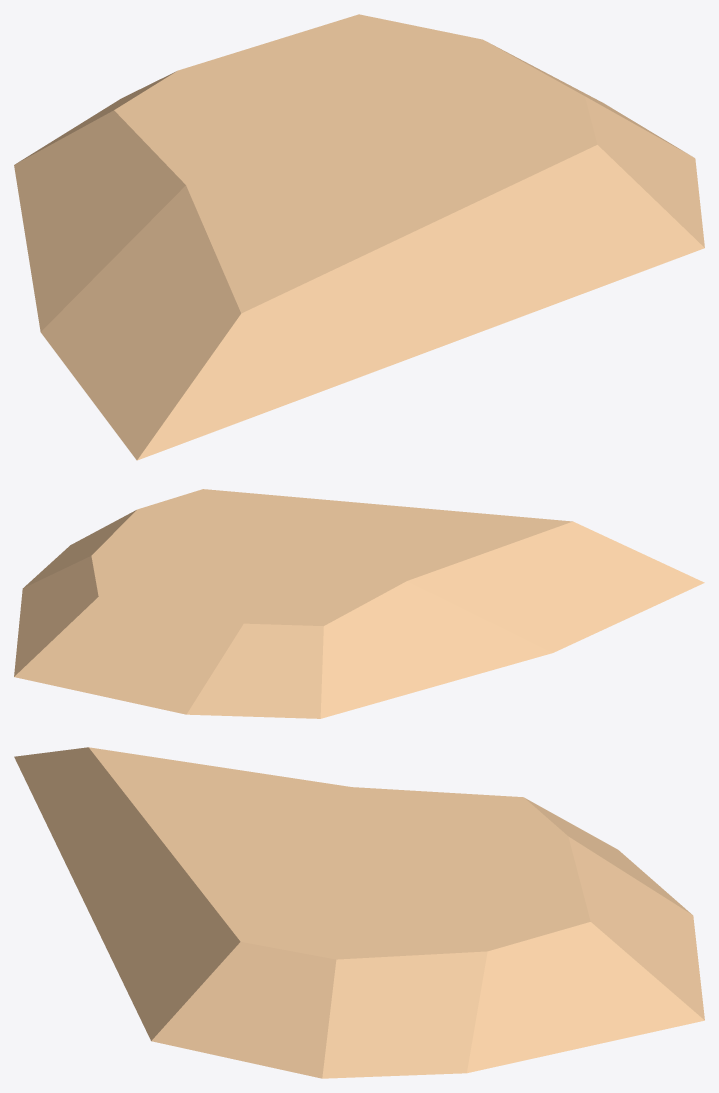
File: Ostrvo_02_plaza.fbx
The picture shows the model from 3 angles, top to bottom: view 1: azimuth 30°, elevation 25°; view 2: azimuth 150°, elevation 25°; view 3: azimuth 270°, elevation 25°; orthographic projection. The views are drawn at different scales.
Visible parts, largest first — view 1: Circle.005; view 2: Circle.005; view 3: Circle.005.
Part boxes in pixels (x1=…): Circle.005: x1=14, y1=14, x2=704, y2=460; Circle.005: x1=14, y1=489, x2=704, y2=718; Circle.005: x1=14, y1=747, x2=704, y2=1078.
Size of the model in its own units: 338 by 36.09 by 306.
